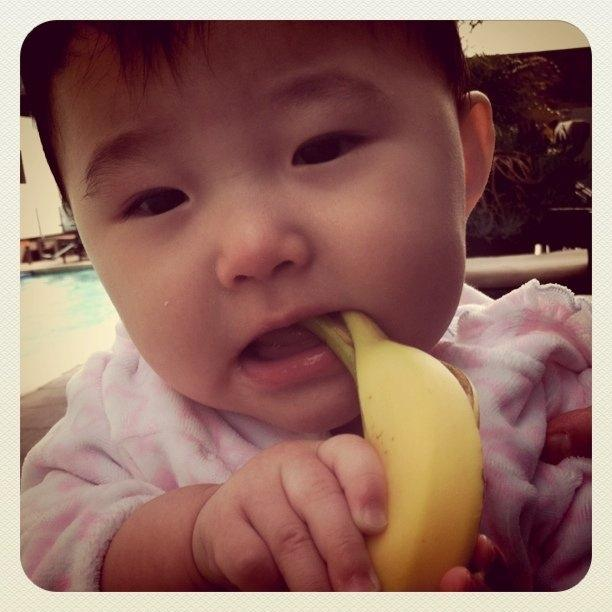banana: (299, 310, 484, 591)
